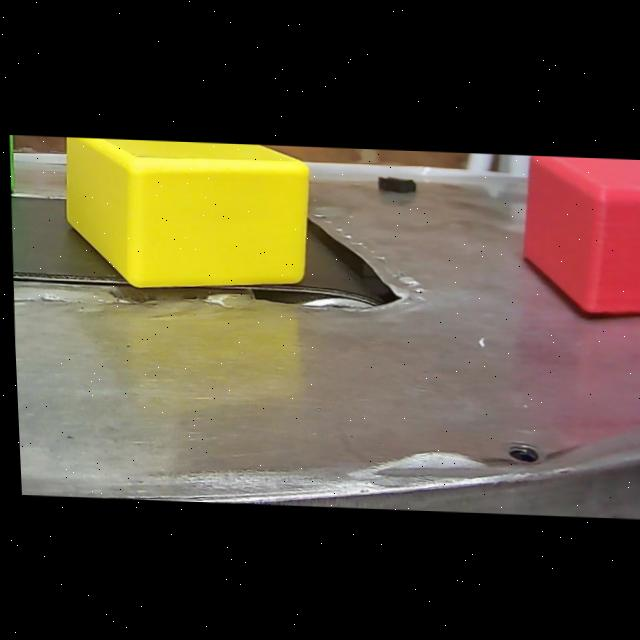greenBox: (7, 135, 18, 205)
redBox: (516, 152, 640, 324)
yellowBox: (55, 136, 316, 299)
